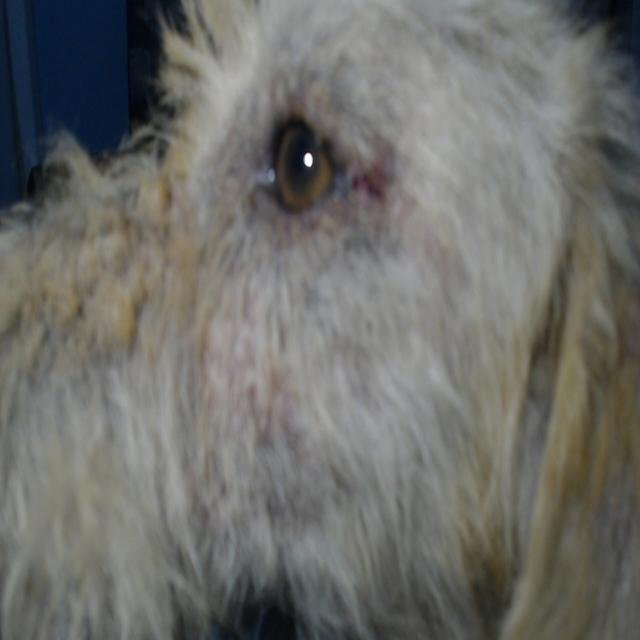demodicosis: (202, 318, 303, 424), (352, 154, 398, 210)
